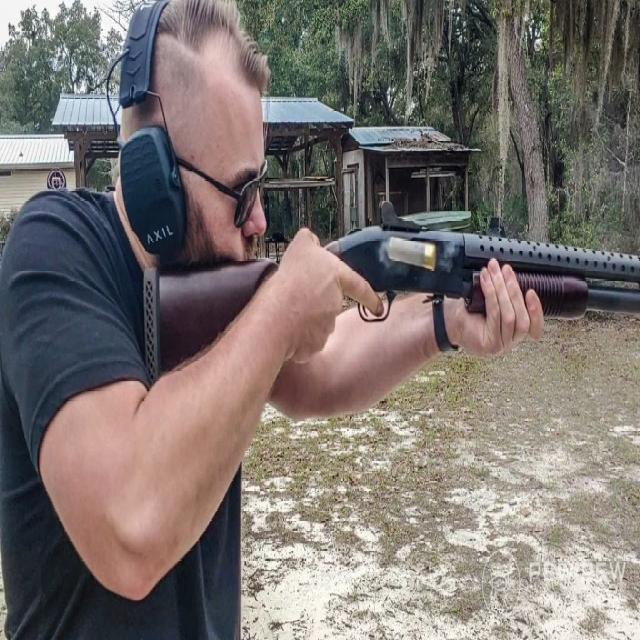ShotGun: (154, 227, 640, 371)
